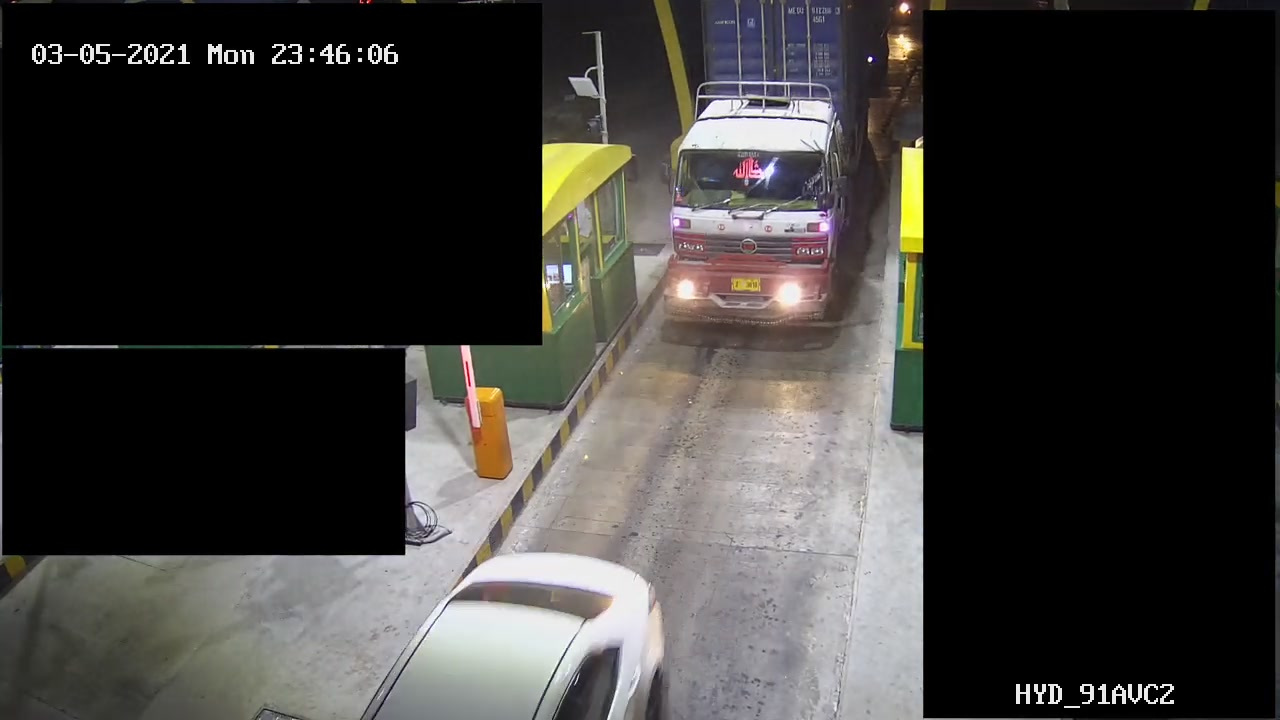F6: (659, 1, 873, 340)
